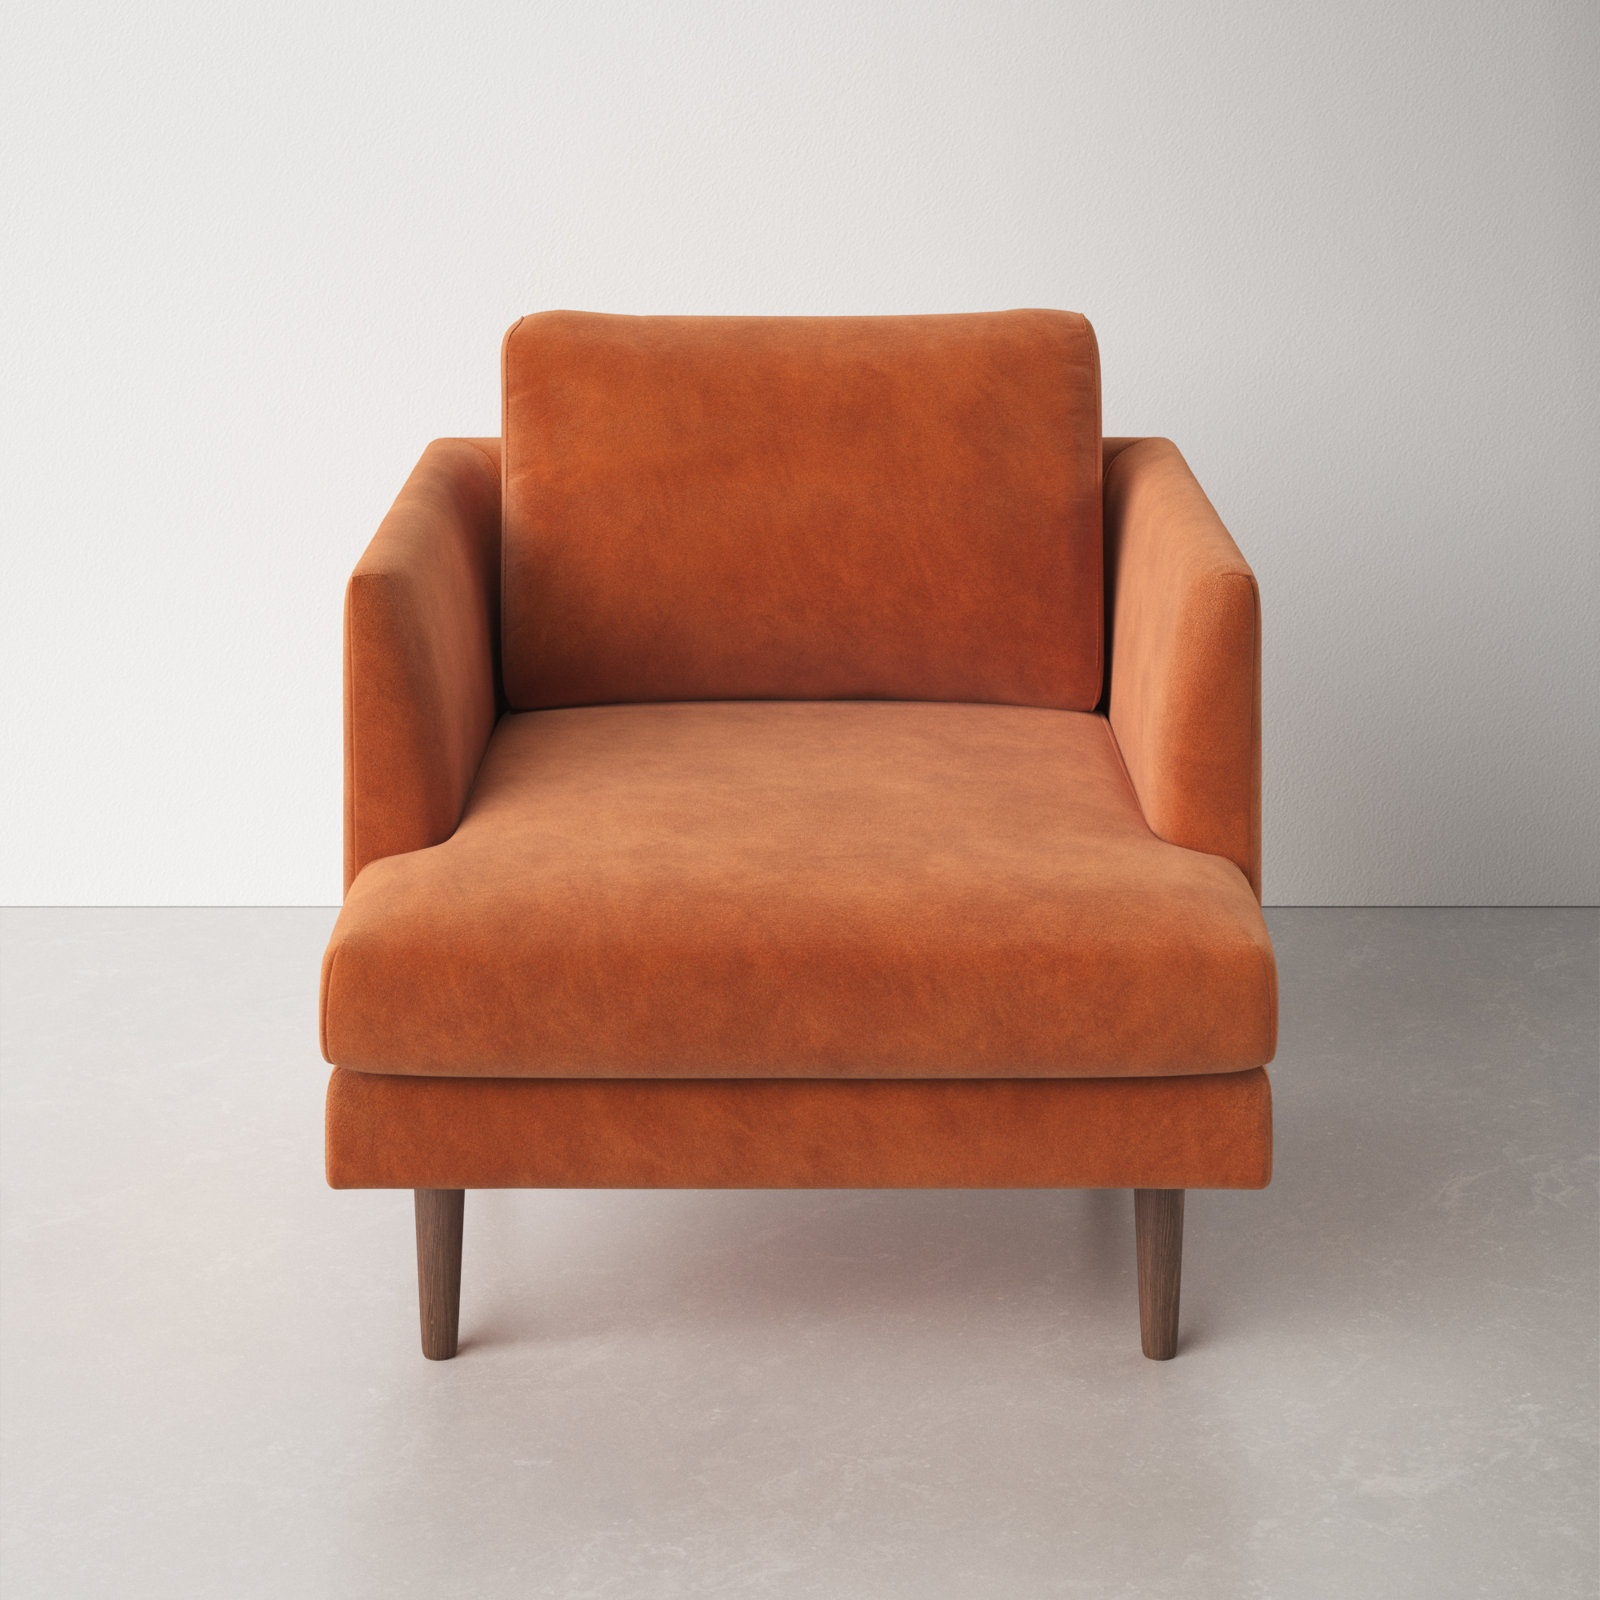obstacle: (321, 311, 1276, 1355)
